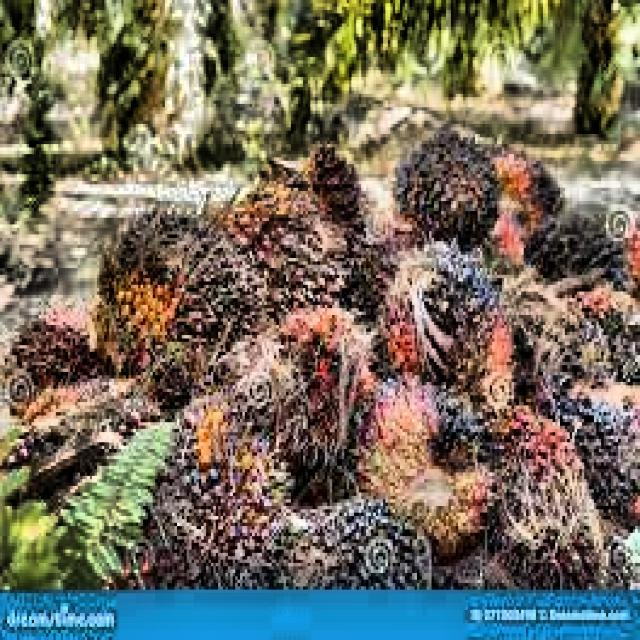FFB: (143, 391, 296, 590), (104, 206, 260, 397), (239, 308, 375, 494), (377, 245, 516, 420), (361, 378, 493, 552), (489, 406, 596, 590), (213, 171, 341, 315), (284, 496, 433, 594), (306, 151, 396, 305), (396, 140, 498, 259), (572, 391, 640, 535), (8, 319, 100, 415), (521, 219, 628, 294), (487, 148, 559, 220)
